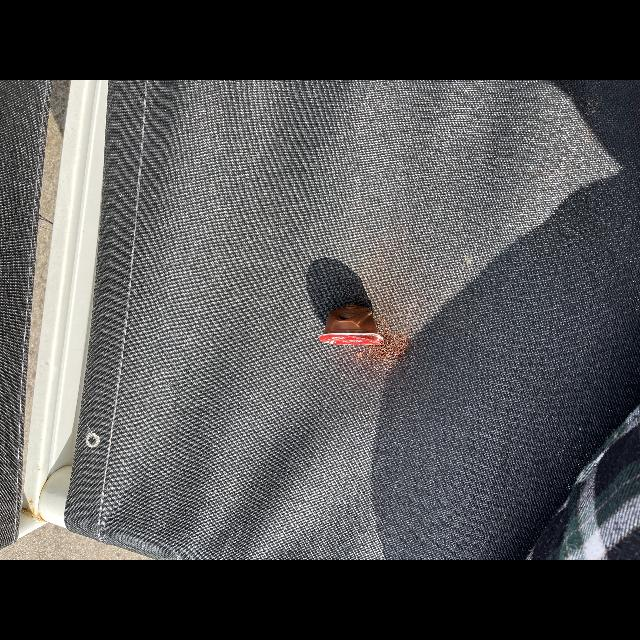damaged_capsule: (310, 295, 394, 359)
